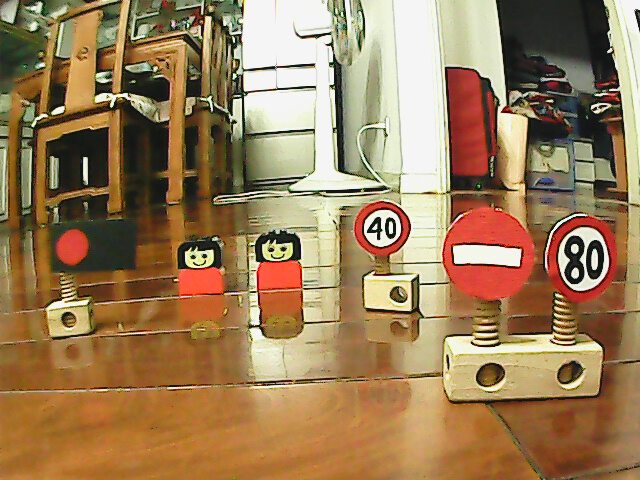Person: (252, 226, 307, 295), (175, 230, 230, 297)
Red Traffic Light: (49, 224, 94, 270)
Speed Limit 40: (352, 199, 413, 257)
Speed Limit 80: (539, 209, 621, 306)
Stop Sign: (440, 203, 539, 303)
